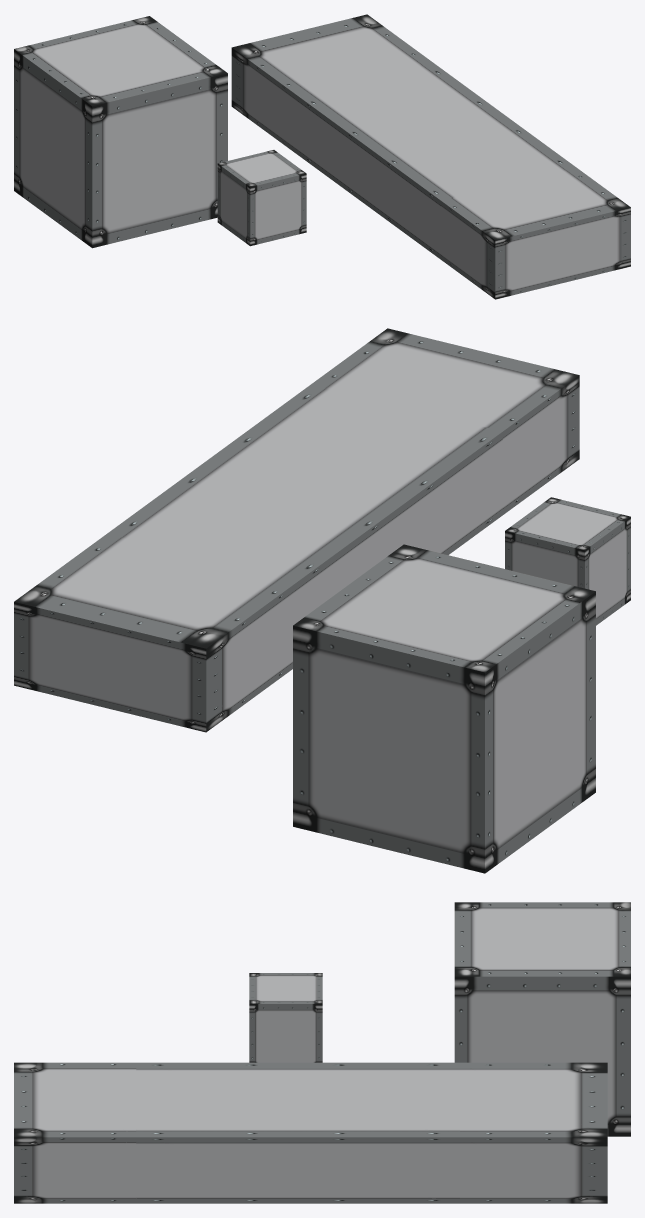
File: objects_metal.fbx
3 renders of one model, top to bottom at view 1: azimuth 30°, elevation 25°; view 2: azimuth 150°, elevation 25°; view 3: azimuth 270°, elevation 25°, orthographic. The views are drawn at different scales.
Parts seen in each view (by area): view 1: wood_16, wood_14, wood_15; view 2: wood_16, wood_14, wood_15; view 3: wood_16, wood_14, wood_15.
Boxes of the visible parts, x1,y1,x2,y2 form: wood_16: (231, 14, 630, 299); wood_14: (14, 16, 227, 248); wood_15: (217, 150, 306, 246); wood_16: (14, 328, 579, 732); wood_14: (293, 544, 595, 873); wood_15: (505, 497, 630, 625); wood_16: (14, 1062, 607, 1203); wood_14: (454, 902, 630, 1136); wood_15: (249, 973, 322, 1062).
Bounding box in the file's own units: 20.01 × 7.92 × 27.71.
